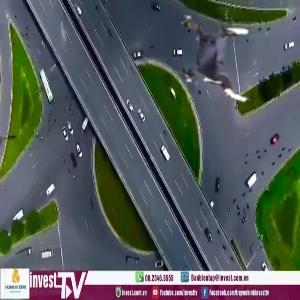drone: (169, 12, 264, 107)
